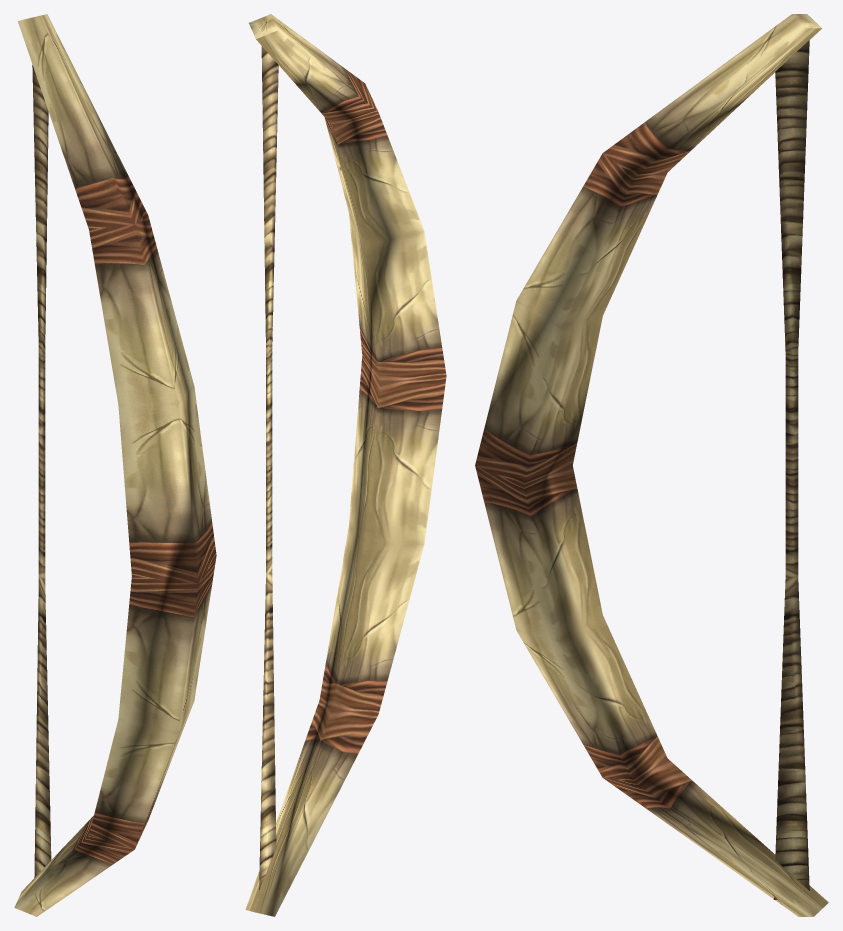
File: bone_bow.obj
3 views of the same model, side by side, from view 1: azimuth 30°, elevation 25°; view 2: azimuth 150°, elevation 25°; view 3: azimuth 270°, elevation 25° (orthographic).
Parts seen in each view (by area): view 1: bone_bow; view 2: bone_bow; view 3: bone_bow.
Boxes of the visible parts, x1=… form: bone_bow: x1=14, y1=14, x2=216, y2=916; bone_bow: x1=245, y1=14, x2=446, y2=916; bone_bow: x1=475, y1=14, x2=828, y2=916.
Bounding box in the file's own units: 0.1961 × 2 × 0.7097.
Materials: 1 (1 with a texture image).
